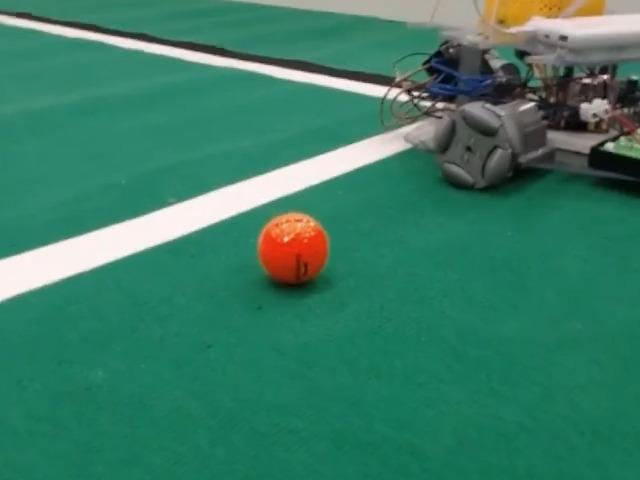Ball: (257, 212, 328, 285)
